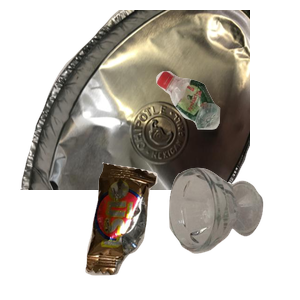glass: (166, 165, 300, 300)
metal: (18, 10, 258, 190)
plastic: (153, 68, 300, 190)
trash: (83, 160, 233, 300)
